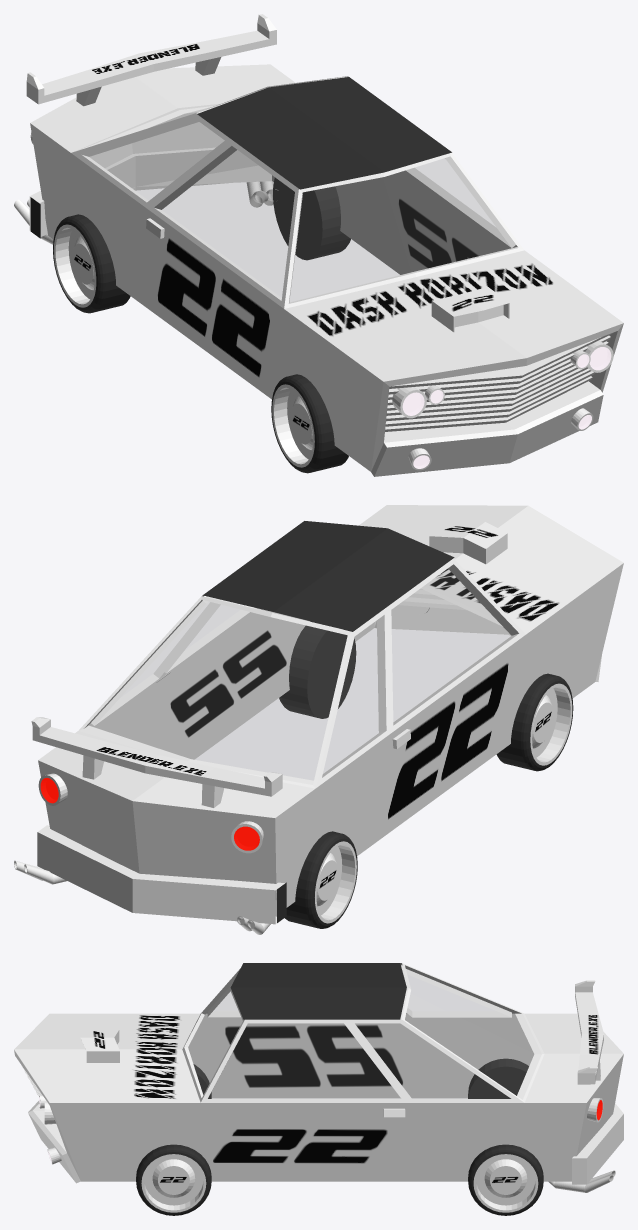
Rendered from car_lowpoly_mod_2.glb.
The picture shows the model from 3 angles, top to bottom: view 1: azimuth 30°, elevation 25°; view 2: azimuth 150°, elevation 25°; view 3: azimuth 270°, elevation 25°; orthographic projection. The views are drawn at different scales.
Parts seen in each view (by area): view 1: Circle, Circle001; view 2: Circle, Circle001; view 3: Circle, Circle001.
Part boxes in pixels (<box>): Circle: <box>14,14,623,476</box>; Circle001: <box>53,177,350,473</box>; Circle: <box>14,505,623,934</box>; Circle001: <box>279,621,573,928</box>; Circle: <box>14,963,623,1192</box>; Circle001: <box>136,1058,543,1215</box>.
Bounding box in the file's own units: 0.5135 × 0.456 × 1.38.
Materials: 11 (6 with a texture image).
